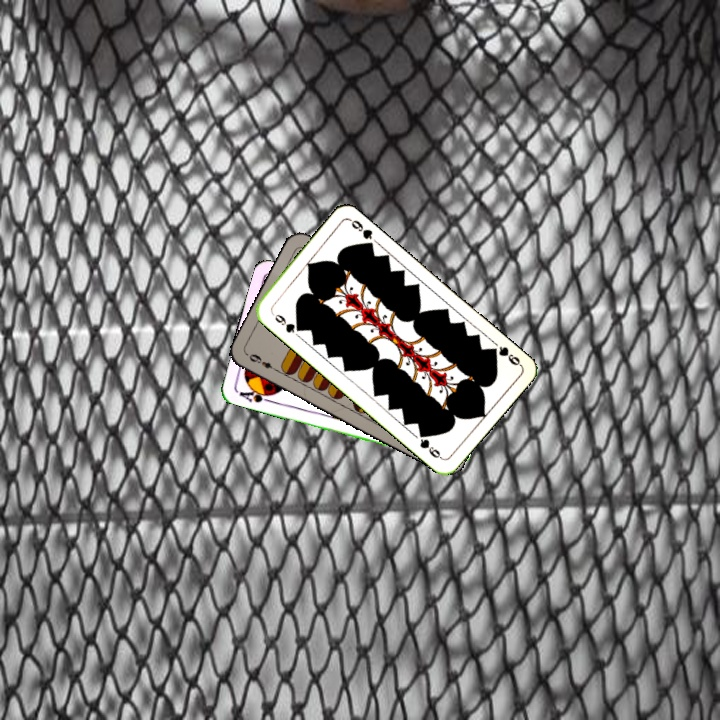E9: (245, 350, 281, 375)
G9: (485, 342, 524, 368), (270, 310, 304, 336)
SA: (233, 384, 275, 405)
